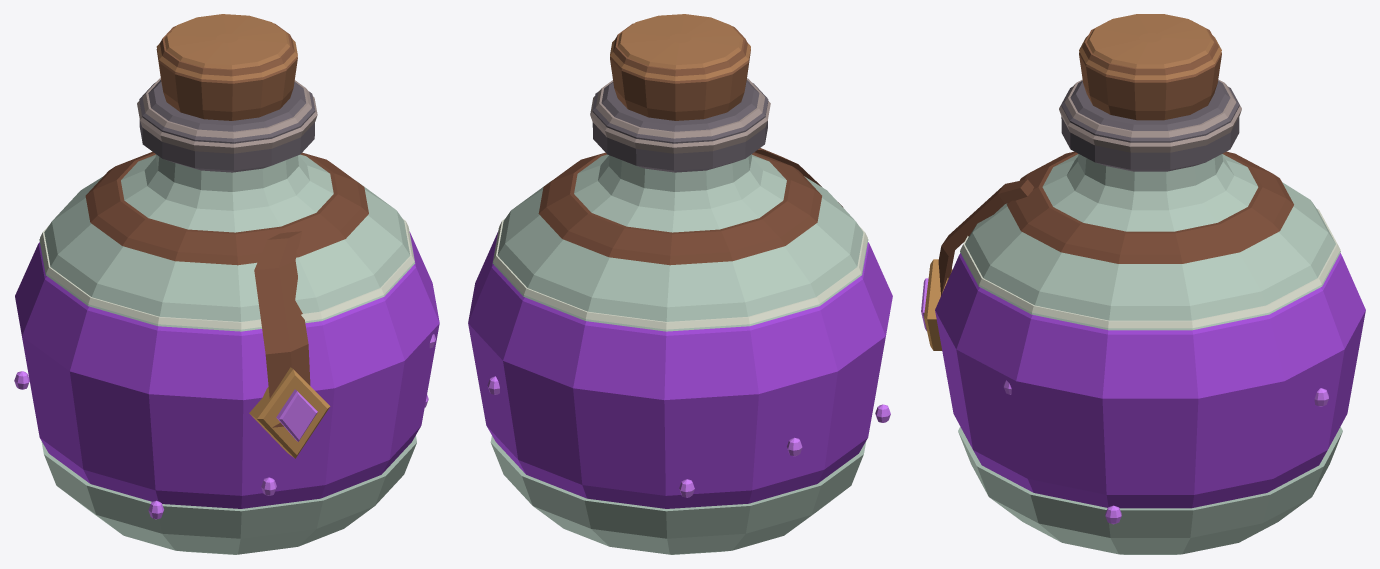
File: CorkedFlask.obj
3 renders of one model, left to right at view 1: azimuth 30°, elevation 25°; view 2: azimuth 150°, elevation 25°; view 3: azimuth 270°, elevation 25°, orthographic.
Visible parts, largest first — view 1: Body; view 2: Body; view 3: Body.
Boxes of the visible parts, bbox=[...] form: Body: bbox=[14, 14, 439, 554]; Body: bbox=[468, 14, 892, 554]; Body: bbox=[921, 14, 1365, 554].
Size of the model in its own units: 0.8619 by 1.07 by 0.9126.
Materials: 1 (1 with a texture image).
